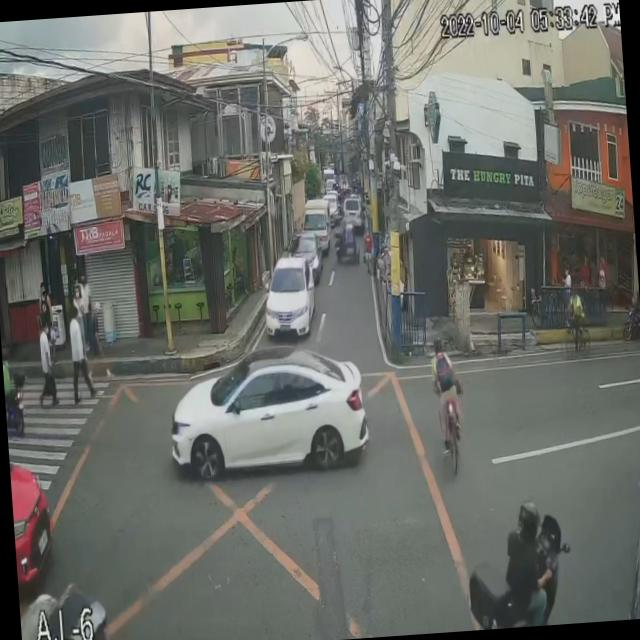full: (516, 498, 542, 539)
